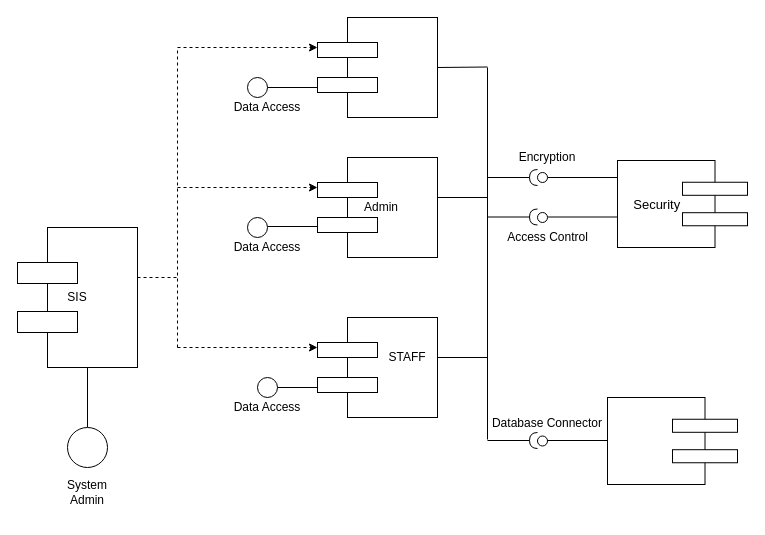
The diagram is 765 pixels wide and 535 high, and some of its shapes have lost their labels. The centre of each missing label's shape, as x and y in pixels:
Database: [672,440]
STUDENT: [377,67]
